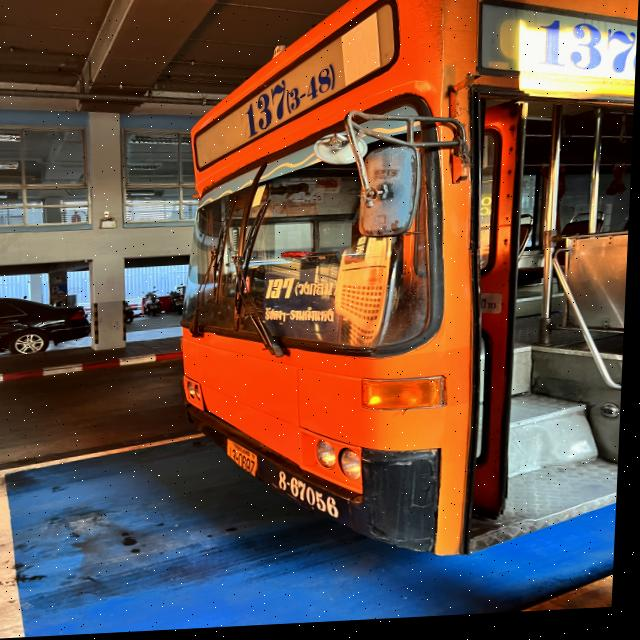BMTA-bus: (174, 0, 640, 576)
Bus-Line-Number: (242, 43, 344, 146), (532, 17, 638, 93)
Destination-Sign-Normal: (264, 270, 347, 350)
